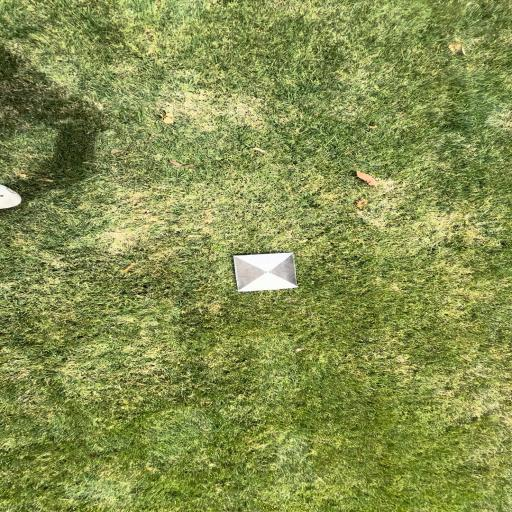target: (234, 253, 298, 290)
